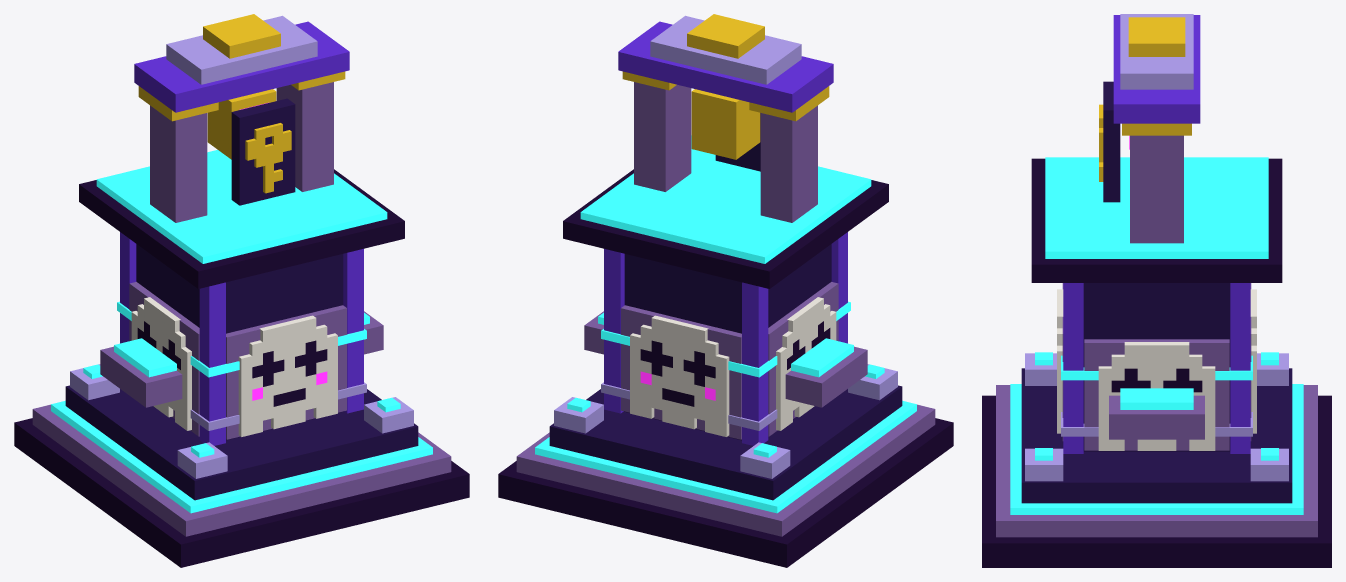
File: keeper-tier-2.glb
3 views of the same model, side by side, from view 1: azimuth 30°, elevation 25°; view 2: azimuth 150°, elevation 25°; view 3: azimuth 270°, elevation 25° (orthographic). The views are drawn at different scales.
Visible parts, largest first — view 1: base-ink, base-deep, base-teal, base-stone, base-cream, crown-stone, base-purple, crown-gold, crown-purple, crown-lavender, crown-deep, base-lavender; view 2: base-ink, base-deep, base-teal, base-stone, crown-stone, base-cream, base-purple, crown-gold, crown-purple, crown-lavender, base-lavender, crown-deep; view 3: base-teal, base-deep, base-ink, base-stone, base-cream, base-purple, crown-stone, base-lavender, crown-purple, crown-gold, crown-lavender, crown-deep.
Part boxes in pixels (<box>): base-ink: <box>14,169,469,567</box>; base-deep: <box>65,244,418,500</box>; base-teal: <box>51,150,432,513</box>; base-stone: <box>32,282,451,536</box>; base-cream: <box>131,297,337,436</box>; crown-stone: <box>150,82,333,222</box>; base-purple: <box>120,232,363,445</box>; crown-gold: <box>138,14,345,193</box>; crown-purple: <box>134,21,349,112</box>; crown-lavender: <box>166,15,317,84</box>; crown-deep: <box>231,98,295,205</box>; base-lavender: <box>70,364,413,478</box>; base-ink: <box>498,169,953,567</box>; base-deep: <box>549,244,902,500</box>; base-teal: <box>535,135,916,513</box>; base-stone: <box>516,282,935,536</box>; crown-stone: <box>634,82,817,222</box>; base-cream: <box>630,297,836,436</box>; base-purple: <box>604,232,847,445</box>; crown-gold: <box>622,14,829,159</box>; crown-purple: <box>618,21,833,112</box>; crown-lavender: <box>650,15,801,84</box>; base-lavender: <box>554,364,897,478</box>; crown-deep: <box>715,113,760,171</box>; base-teal: <box>1010,157,1303,514</box>; base-deep: <box>1021,283,1292,503</box>; base-ink: <box>982,158,1331,567</box>; base-stone: <box>996,283,1317,537</box>; base-cream: <box>1057,289,1256,450</box>; base-purple: <box>1063,283,1250,453</box>; crown-stone: <box>1130,135,1183,243</box>; base-lavender: <box>1025,353,1288,481</box>; crown-purple: <box>1113,15,1200,123</box>; crown-gold: <box>1099,17,1191,181</box>; crown-lavender: <box>1120,14,1193,89</box>; crown-deep: <box>1103,81,1120,202</box>.
Size of the model in its own units: 3.1 by 4.53 by 3.1.
